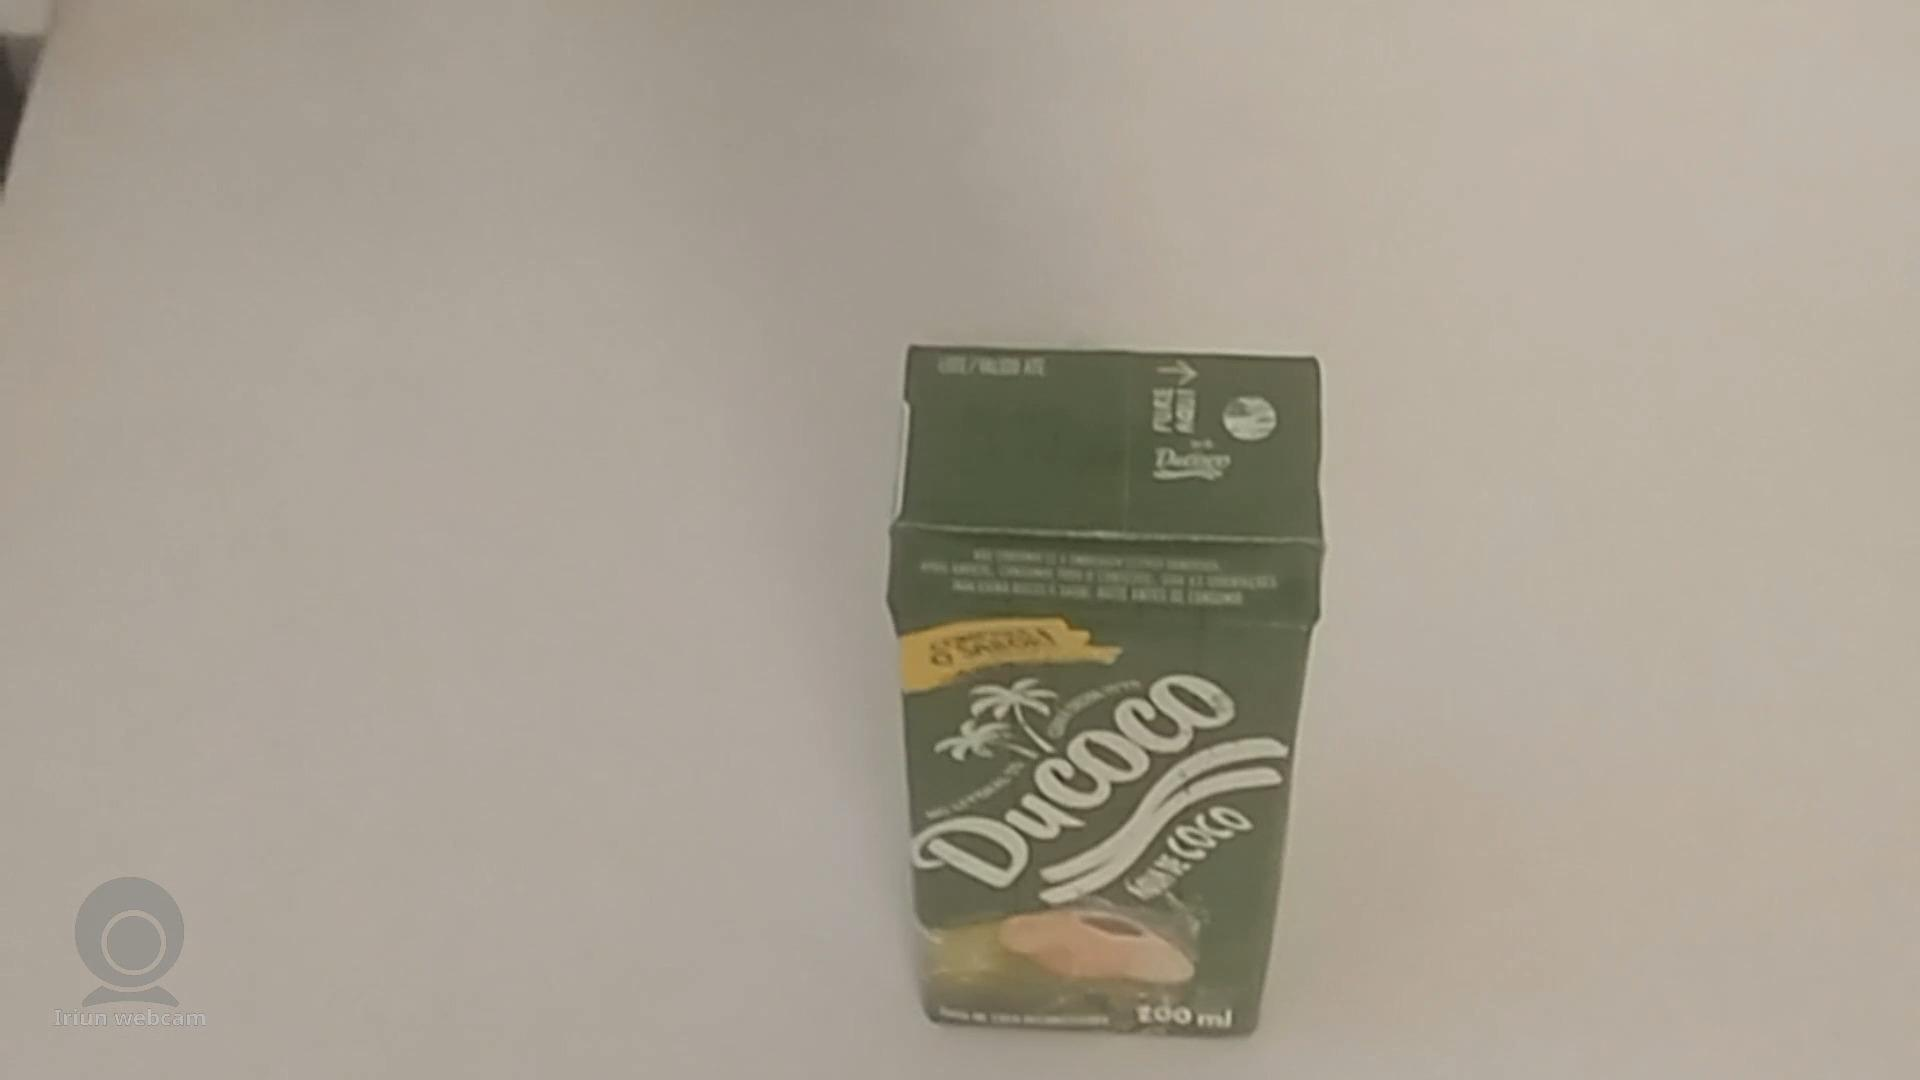coco: (889, 342, 1325, 1044)
